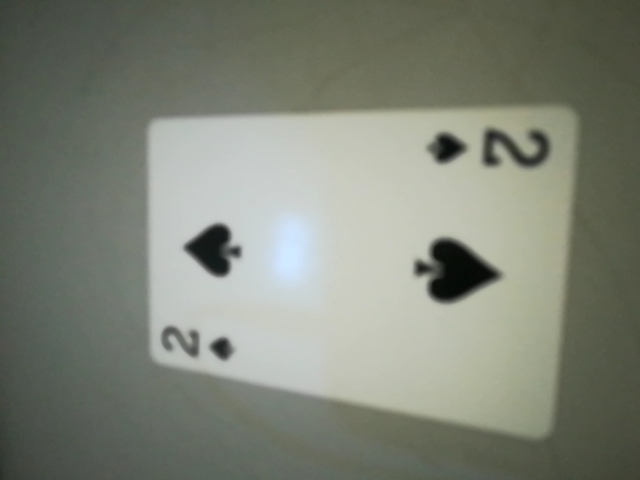ht 2: (406, 117, 571, 179)
